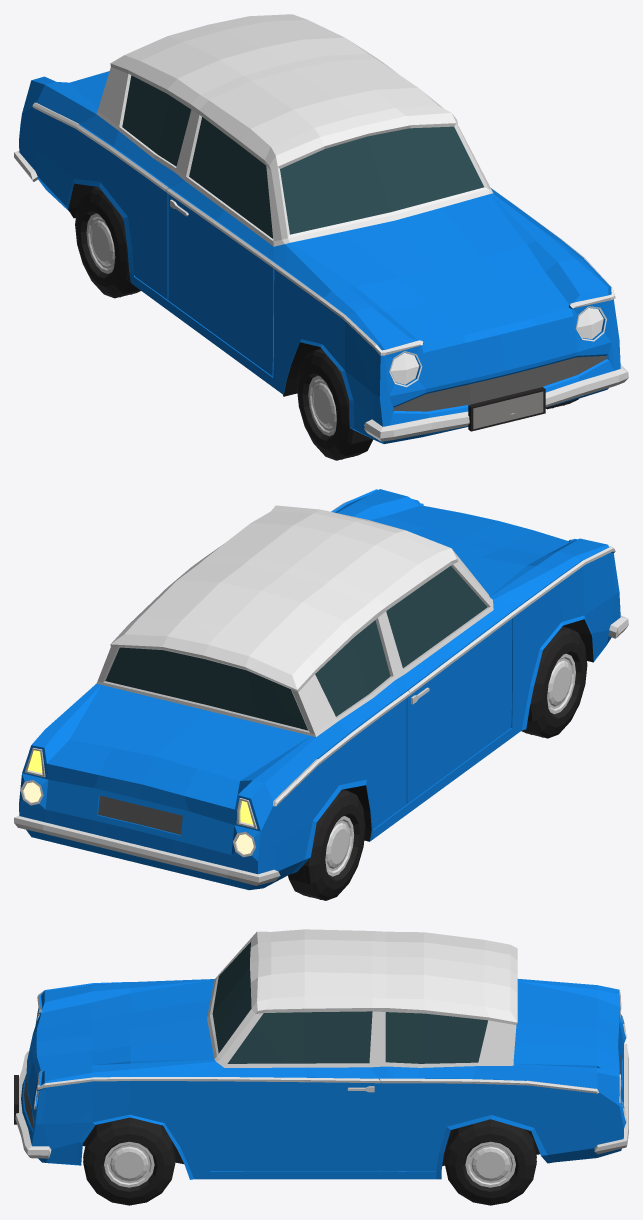
Rendered from cars4.fbx.
3 views of the same model, one above another, from view 1: azimuth 30°, elevation 25°; view 2: azimuth 150°, elevation 25°; view 3: azimuth 270°, elevation 25° (orthographic). The views are drawn at different scales.
Visible parts, largest first — view 1: Object_4, Object_5, Object_6, Object_14, Object_7, Object_12, Object_15, Object_18, Object_8, Object_9, Object_17; view 2: Object_4, Object_5, Object_6, Object_14, Object_7, Object_15, Object_12, Object_9; view 3: Object_4, Object_5, Object_6, Object_14, Object_7, Object_15.
Part boxes in pixels (left/top/right/bottom): Object_4: left=19, top=71, right=620, bottom=443; Object_5: left=96, top=14, right=493, bottom=246; Object_6: left=122, top=75, right=483, bottom=238; Object_14: left=75, top=187, right=578, bottom=460; Object_7: left=14, top=102, right=628, bottom=441; Object_12: left=394, top=356, right=606, bottom=411; Object_15: left=86, top=213, right=336, bottom=436; Object_18: left=473, top=391, right=543, bottom=429; Object_8: left=390, top=308, right=603, bottom=384; Object_9: left=68, top=183, right=321, bottom=396; Object_17: left=468, top=387, right=545, bottom=431; Object_4: left=19, top=489, right=620, bottom=890; Object_5: left=96, top=505, right=493, bottom=736; Object_6: left=105, top=566, right=487, bottom=730; Object_14: left=288, top=626, right=587, bottom=900; Object_7: left=14, top=500, right=628, bottom=885; Object_15: left=325, top=653, right=575, bottom=876; Object_12: left=98, top=795, right=182, bottom=834; Object_9: left=343, top=619, right=593, bottom=841; Object_4: left=21, top=979, right=626, bottom=1179; Object_5: left=207, top=929, right=517, bottom=1067; Object_6: left=212, top=941, right=487, bottom=1063; Object_14: left=83, top=1117, right=536, bottom=1205; Object_7: left=15, top=991, right=628, bottom=1158; Object_15: left=104, top=1141, right=515, bottom=1187.
Bounding box in the file's own units: 153 × 145 × 393.
